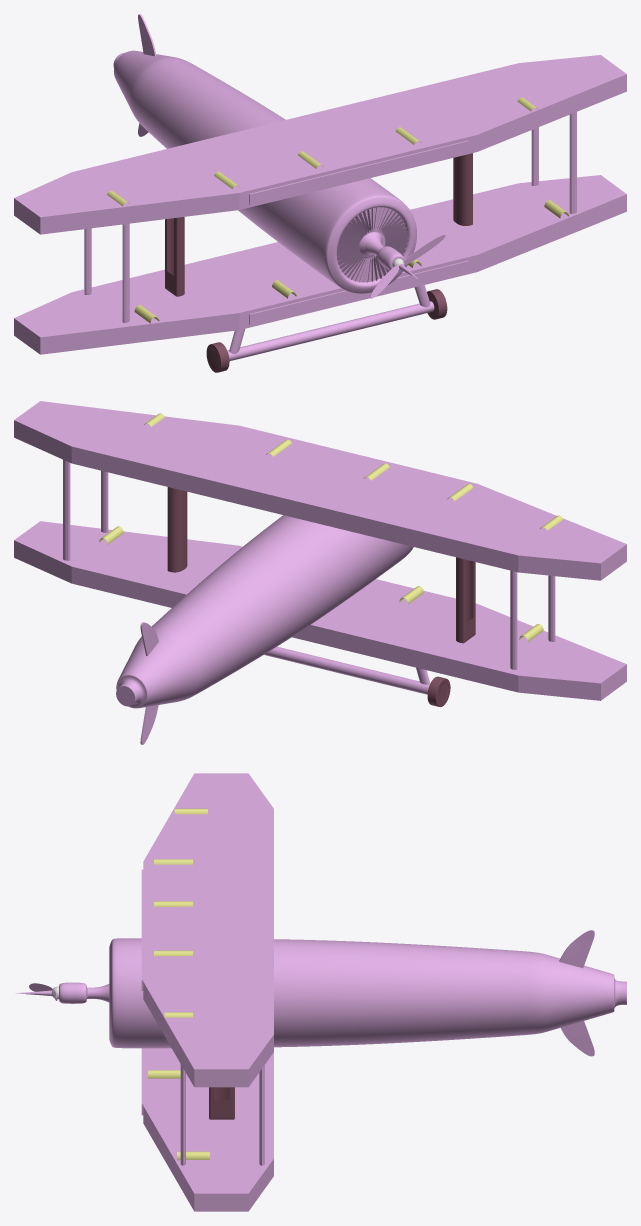
The picture shows the model from 3 angles, top to bottom: view 1: azimuth 30°, elevation 25°; view 2: azimuth 150°, elevation 25°; view 3: azimuth 270°, elevation 25°; orthographic projection. The views are drawn at different scales.
Parts seen in each view (by area): view 1: 平面.001, 圆环, 圆环.001, 立方体, 柱体.004, 圆环.010, 柱体.002, 柱体, 圆环.002, 平面.004; view 2: 平面.001, 圆环, 立方体, 柱体.004, 圆环.010, 柱体.002, 柱体, 平面.004, 圆环.002; view 3: 平面.001, 圆环, 圆环.010, 平面.004, 柱体, 立方体.
Part boxes in pixels (x1,y1,x2,y2): 平面.001: (14, 55, 626, 354); 圆环: (113, 50, 418, 293); 圆环.001: (337, 207, 408, 282); 立方体: (165, 153, 472, 296); 柱体.004: (227, 301, 434, 360); 圆环.010: (107, 97, 568, 323); 柱体.002: (84, 223, 129, 322); 柱体: (531, 112, 576, 213); 圆环.002: (206, 289, 447, 372); 平面.004: (138, 14, 156, 136); 平面.001: (14, 401, 626, 700); 圆环: (116, 515, 413, 708); 立方体: (167, 487, 475, 643); 柱体.004: (264, 646, 429, 694); 圆环.010: (99, 413, 563, 641); 柱体.002: (510, 570, 555, 669); 柱体: (63, 459, 108, 560); 平面.004: (140, 622, 158, 744); 圆环.002: (427, 676, 450, 706); 平面.001: (141, 773, 273, 1211); 圆环: (15, 938, 626, 1048); 圆环.010: (148, 808, 209, 1160); 平面.004: (559, 930, 594, 1056); 柱体: (180, 1064, 264, 1165); 立方体: (209, 1087, 234, 1119).
Size of what is drawn, in the model's own units: 1146 by 382 by 1003.
